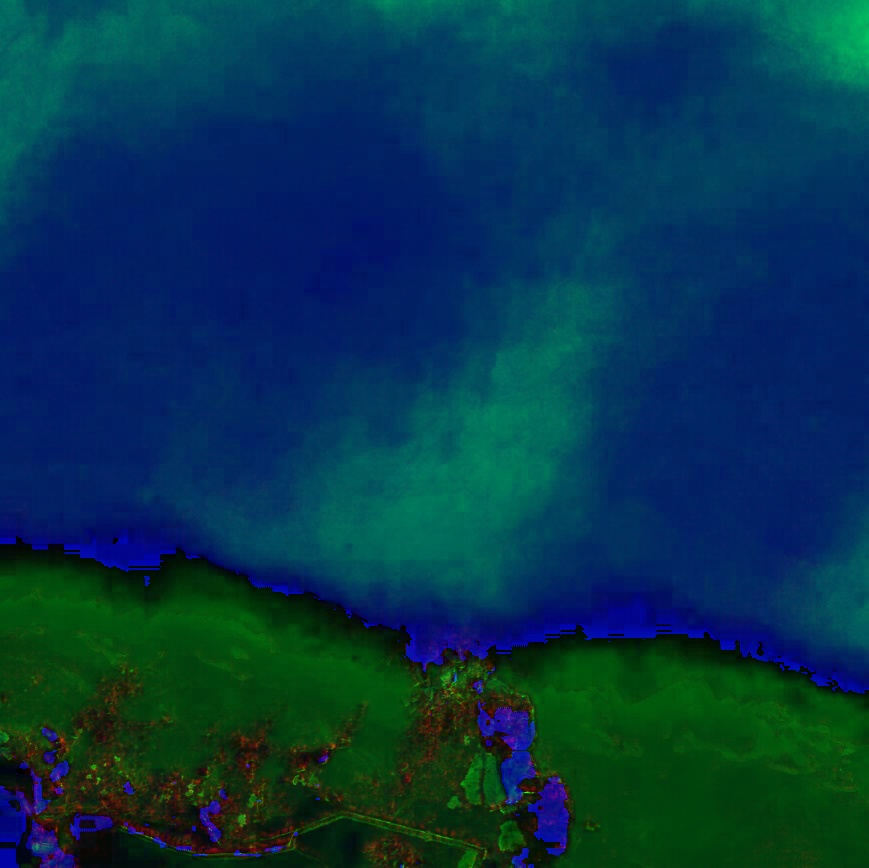rip_current: (222, 205, 687, 604)
